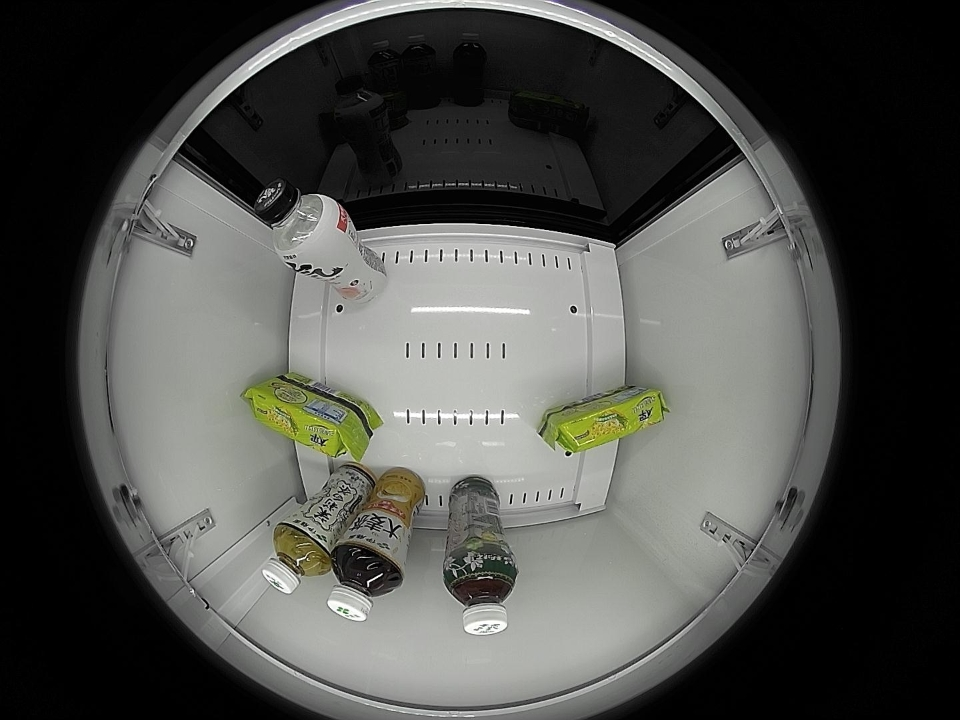baicha: (262, 520, 332, 595)
damaicha: (327, 543, 404, 622)
moliqingcha: (443, 553, 517, 636)
taipingshuda: (246, 376, 368, 459), (539, 382, 670, 455)
yuanqishui: (254, 179, 346, 268)
